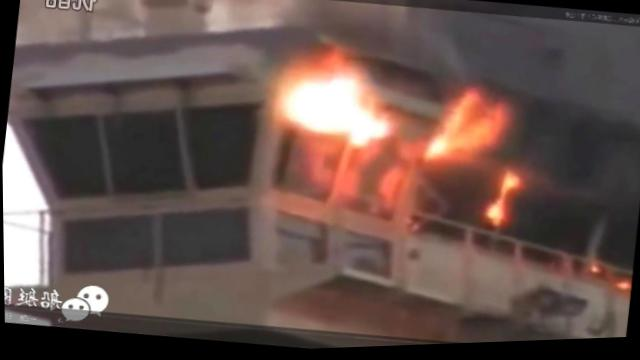fire: (279, 72, 398, 155), (442, 92, 511, 158), (483, 196, 511, 233), (419, 136, 453, 166), (500, 172, 519, 199)
